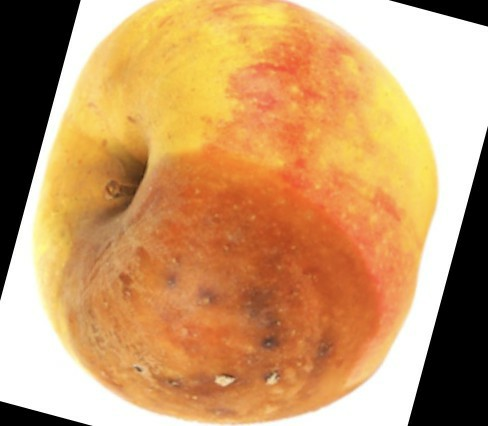rotten_apple: (35, 1, 438, 424)
